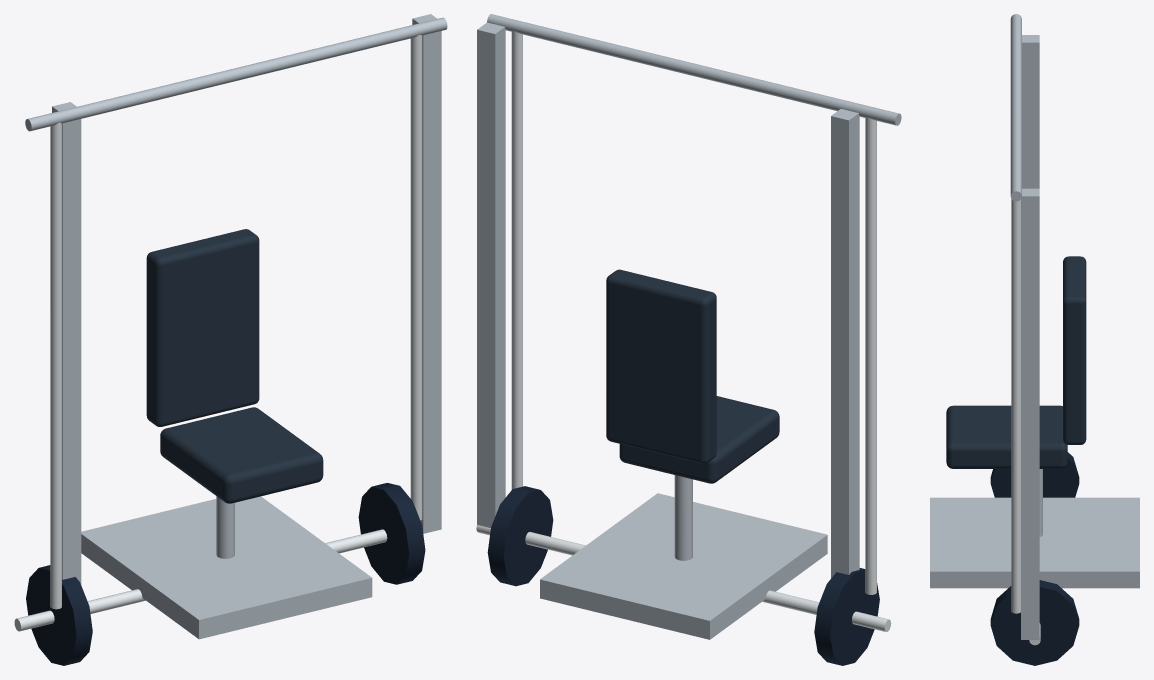
The model's file is smith_seated.glb.
3 views of the same model, side by side, from view 1: azimuth 30°, elevation 25°; view 2: azimuth 150°, elevation 25°; view 3: azimuth 270°, elevation 25° (orthographic). The views are drawn at different scales.
Parts seen in each view (by area): view 1: base, back, smithUpright (×2), smithGuide (×2), seat, barbell_plate (×2), smithCross, barbell, post; view 2: smithUpright (×2), base, back, smithGuide (×2), barbell_plate (×2), smithCross, seat, barbell, post; view 3: base, smithUpright (×2), barbell_plate (×2), seat, back, smithGuide, smithCross.
Boxes of the visible parts, box(x1,y1,x2,y2) form: base: box(81, 496, 372, 639); back: box(146, 229, 259, 426); smithUpright (×2): box(52, 14, 441, 584); smithGuide (×2): box(50, 35, 422, 609); seat: box(160, 407, 323, 503); barbell_plate (×2): box(26, 483, 425, 665); smithCross: box(25, 17, 447, 131); barbell: box(14, 529, 387, 631); post: box(216, 496, 234, 558); smithUpright (×2): box(477, 22, 859, 578); base: box(540, 493, 827, 639); back: box(606, 269, 716, 463); smithGuide (×2): box(511, 31, 876, 594); barbell_plate (×2): box(487, 486, 879, 665); smithCross: box(487, 14, 901, 125); seat: box(619, 396, 779, 483); barbell: box(476, 525, 891, 631); post: box(674, 475, 692, 560); base: box(930, 497, 1139, 588); smithUpright (×2): box(1021, 35, 1039, 639); barbell_plate (×2): box(990, 452, 1079, 665); seat: box(946, 405, 1067, 468); back: box(1063, 256, 1086, 444); smithGuide: box(1011, 199, 1020, 613); smithCross: box(1010, 14, 1021, 201).
Size of the model in its own units: 1.8 by 2.31 by 0.9.
